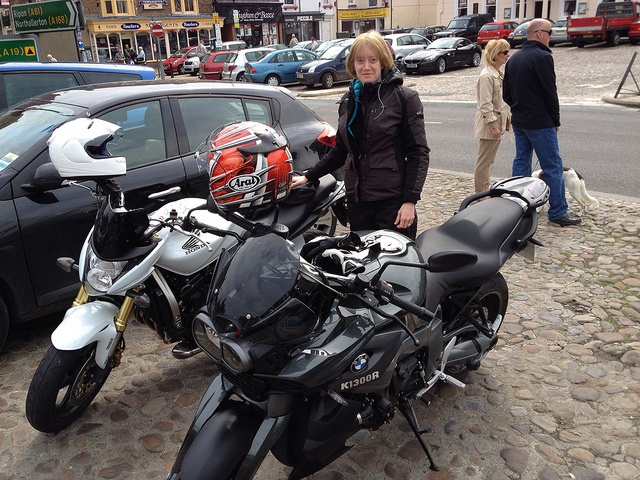non-vehicle: (166, 118, 552, 480), (24, 118, 347, 432)
